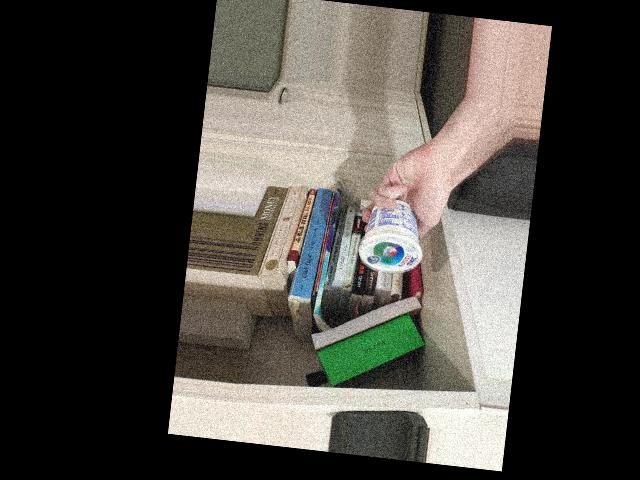cotage: (355, 184, 426, 278)
